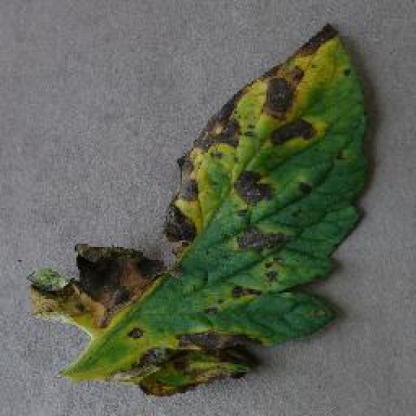Tomato_Blight: (31, 25, 370, 390)
